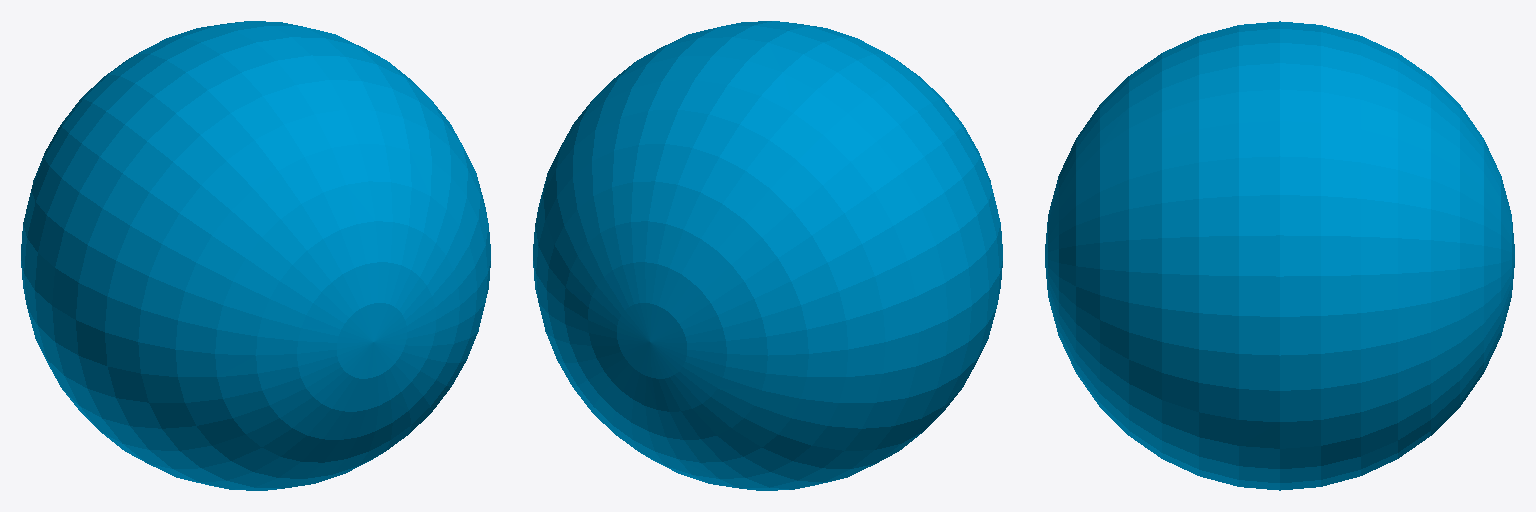
Rendered from tarde.obj.
The picture shows the model from 3 angles: view 1: azimuth 30°, elevation 25°; view 2: azimuth 150°, elevation 25°; view 3: azimuth 270°, elevation 25°; orthographic projection.
Visible parts, largest first — view 1: obj_0; view 2: obj_0; view 3: obj_0.
Part boxes in pixels (bbox=[...]): obj_0: bbox=[21, 21, 490, 490]; obj_0: bbox=[533, 21, 1002, 490]; obj_0: bbox=[1045, 21, 1514, 490].
Size of the model in its own units: 2.69 by 2.69 by 2.69.